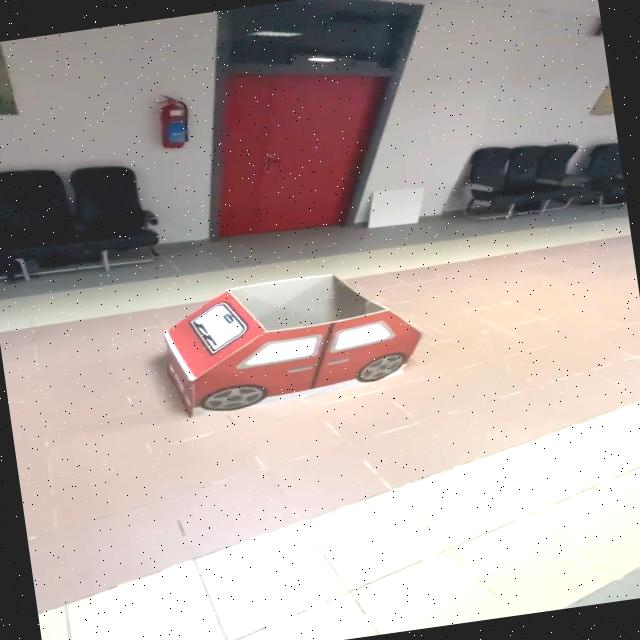red_car: (132, 245, 466, 450)
